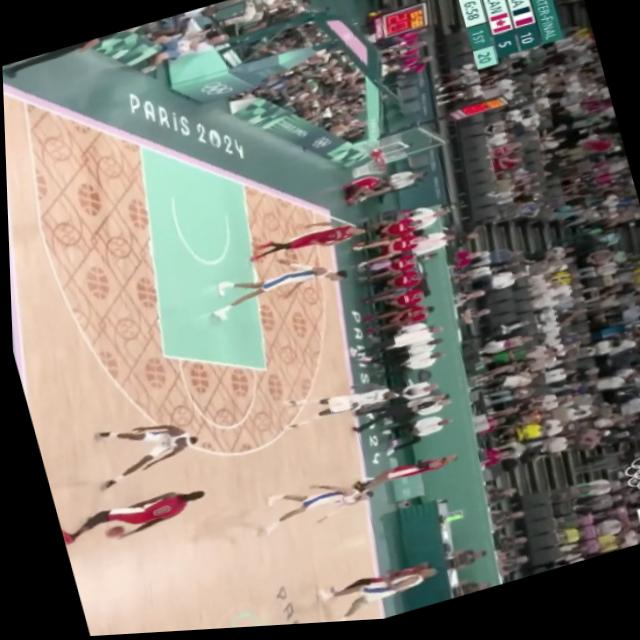ball_handler: (52, 478, 207, 558)
